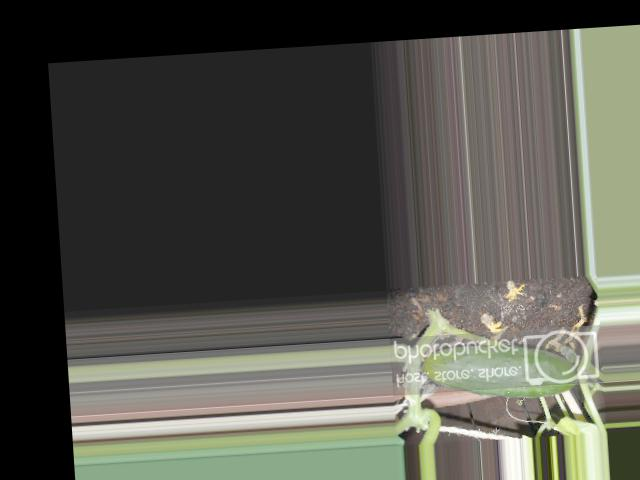cucumber: (422, 337, 577, 403)
